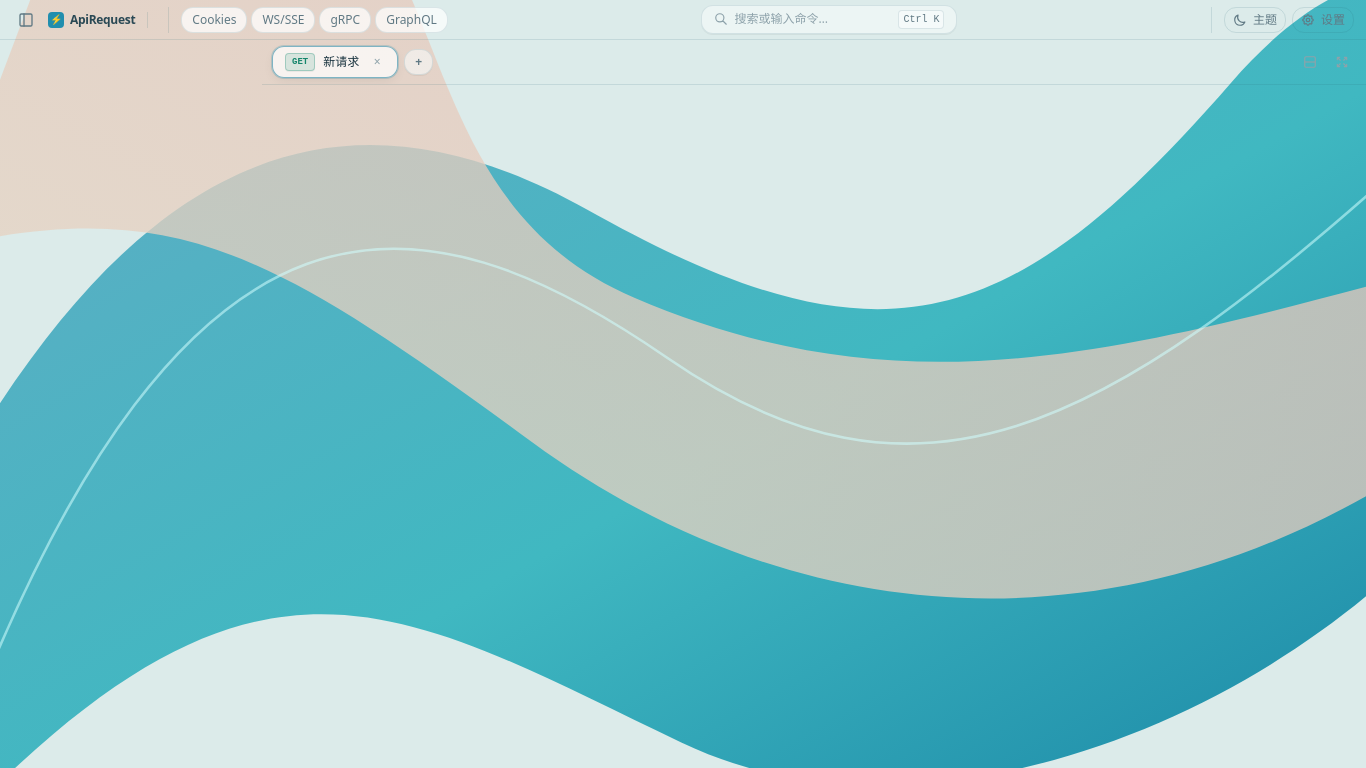
Test: App 启动对话框状态 › Cookies 按钮可打开 Cookie 管理，关闭按钮可关闭
Click the button "Cookies" at (214, 20), box [181, 6, 247, 32]
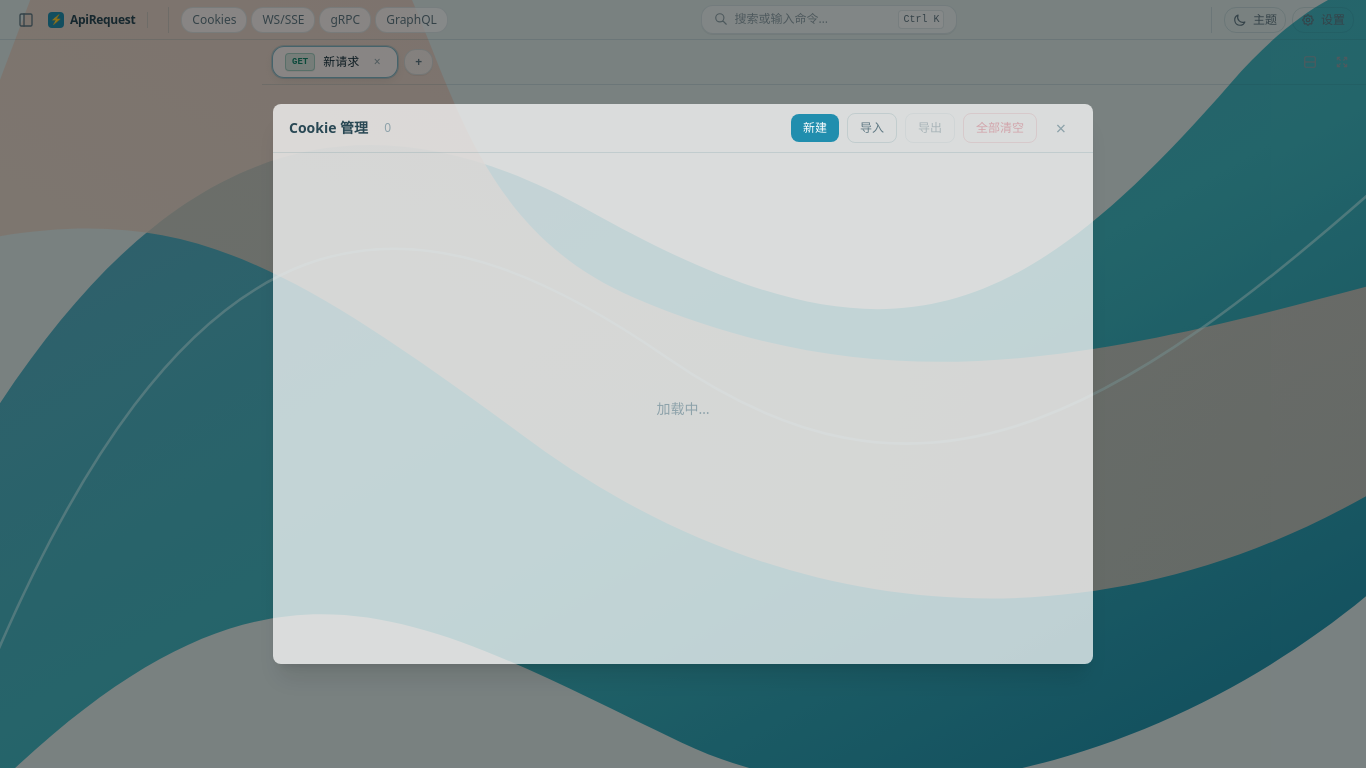
Expected: the heading "Cookie 管理" is shown, [289, 118, 368, 138]
Click the button named "关闭" at (1061, 128), box [1045, 112, 1077, 144]
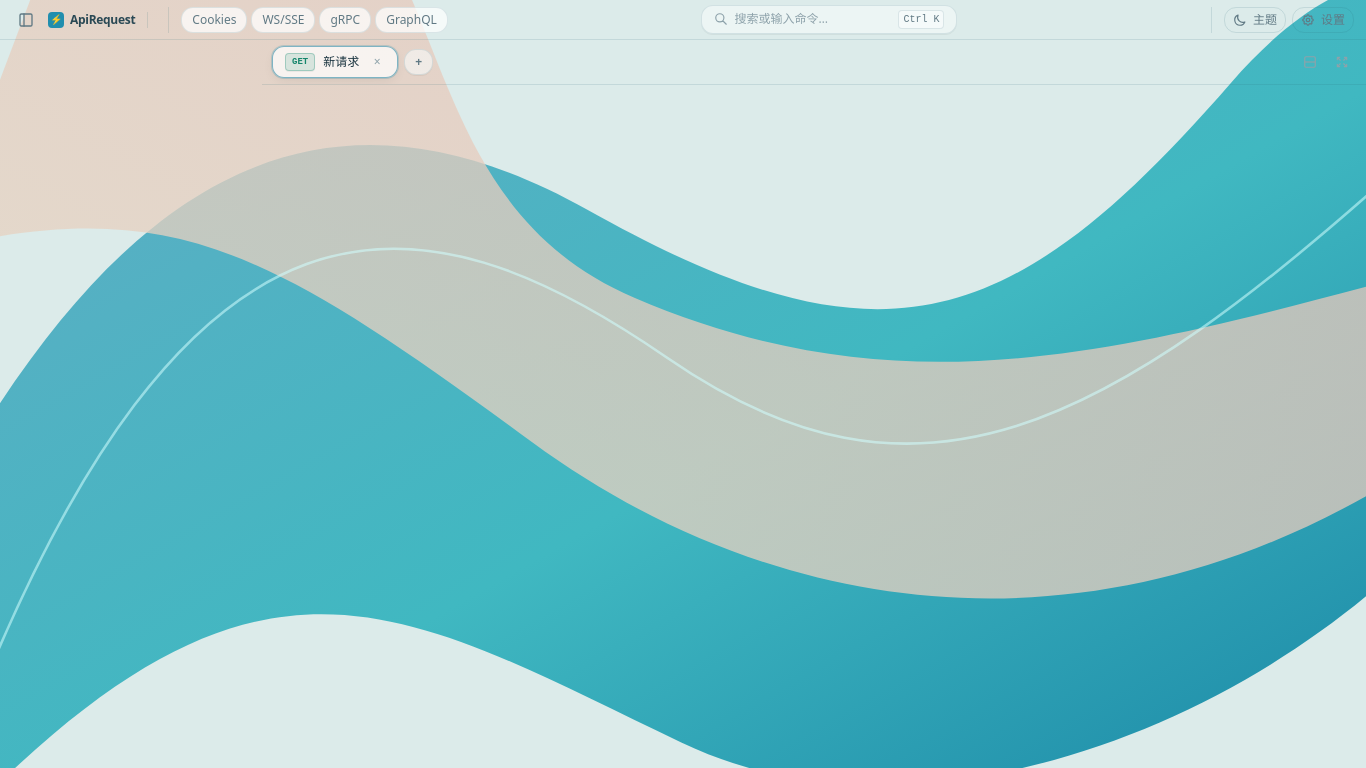
Expected: the heading "Cookie 管理" is gone
